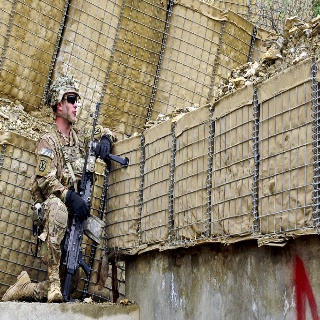rifle: (61, 103, 129, 297)
